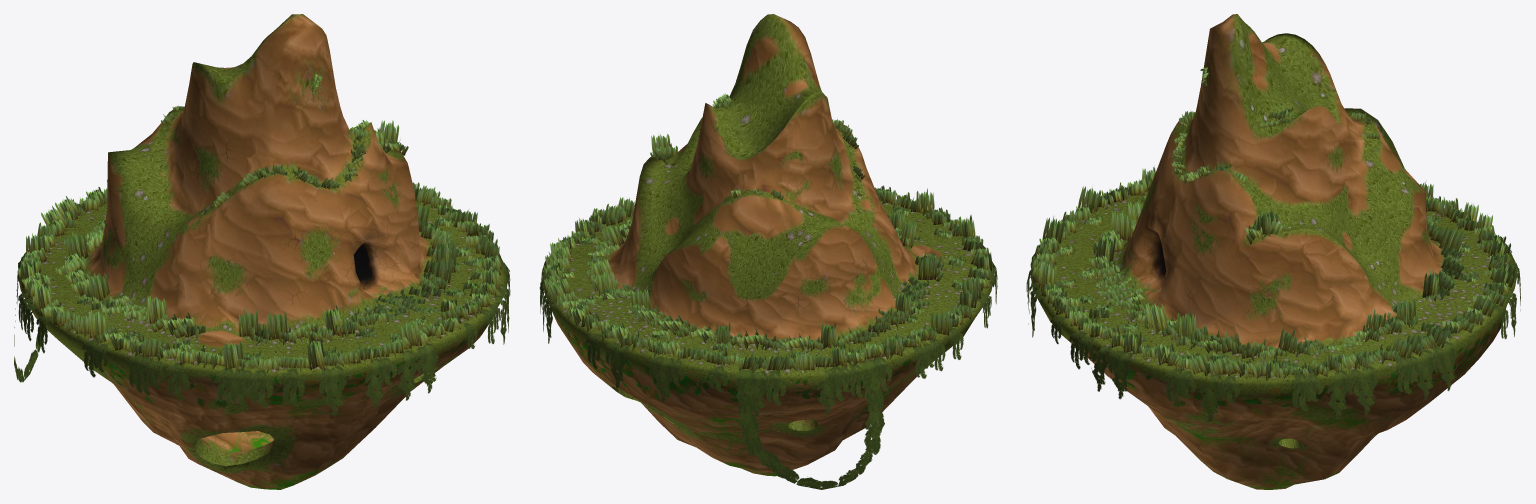
Rendered from froggy_island.glb.
3 views of the same model, side by side, from view 1: azimuth 30°, elevation 25°; view 2: azimuth 150°, elevation 25°; view 3: azimuth 270°, elevation 25° (orthographic). The views are drawn at different scales.
Parts seen in each view (by area): view 1: Island_Final_Test_2_Top_Out_0, Grass_Planes_62_Mat_GrassPlanes_0, Island_Final_Test_2_Bot_Out_0, Vines_Individual_polySurface1178_290_Mat_Vines_0, Island_Final_Test_2_Top_Inner_0; view 2: Island_Final_Test_2_Top_Out_0, Grass_Planes_62_Mat_GrassPlanes_0, Island_Final_Test_2_Bot_Out_0, Vines_Individual_polySurface1178_290_Mat_Vines_0; view 3: Island_Final_Test_2_Top_Out_0, Grass_Planes_62_Mat_GrassPlanes_0, Island_Final_Test_2_Bot_Out_0, Vines_Individual_polySurface1178_290_Mat_Vines_0.
Boxes of the visible parts, x1,y1,x2,y2 form: Island_Final_Test_2_Top_Out_0: (18,14,507,376); Grass_Planes_62_Mat_GrassPlanes_0: (18,73,501,372); Island_Final_Test_2_Bot_Out_0: (27,303,499,489); Vines_Individual_polySurface1178_290_Mat_Vines_0: (14,201,510,416); Island_Final_Test_2_Top_Inner_0: (201,431,273,452); Island_Final_Test_2_Top_Out_0: (542,14,994,378); Grass_Planes_62_Mat_GrassPlanes_0: (543,93,992,373); Island_Final_Test_2_Bot_Out_0: (546,297,982,476); Vines_Individual_polySurface1178_290_Mat_Vines_0: (539,210,997,489); Island_Final_Test_2_Top_Out_0: (1031,14,1516,385); Grass_Planes_62_Mat_GrassPlanes_0: (1032,67,1516,380); Island_Final_Test_2_Bot_Out_0: (1040,297,1510,489); Vines_Individual_polySurface1178_290_Mat_Vines_0: (1026,187,1520,421).
Size of the model in its own units: 91.47 by 98.4 by 92.
Materials: 6 (5 with a texture image).
